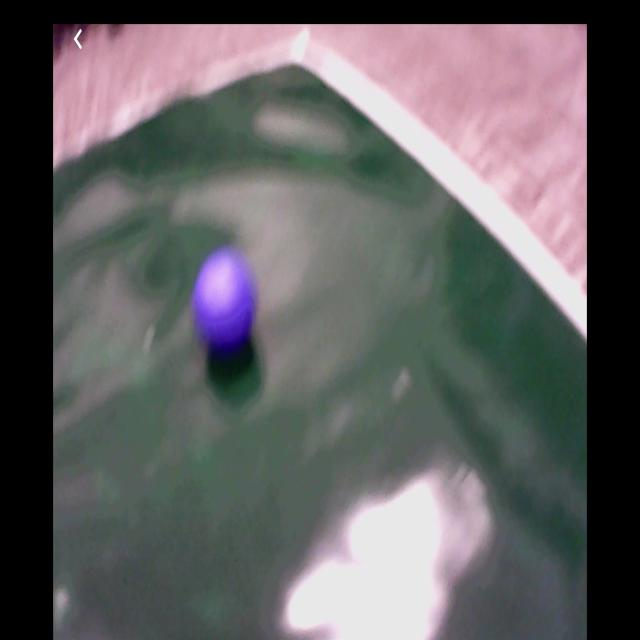ball: (197, 254, 257, 353)
